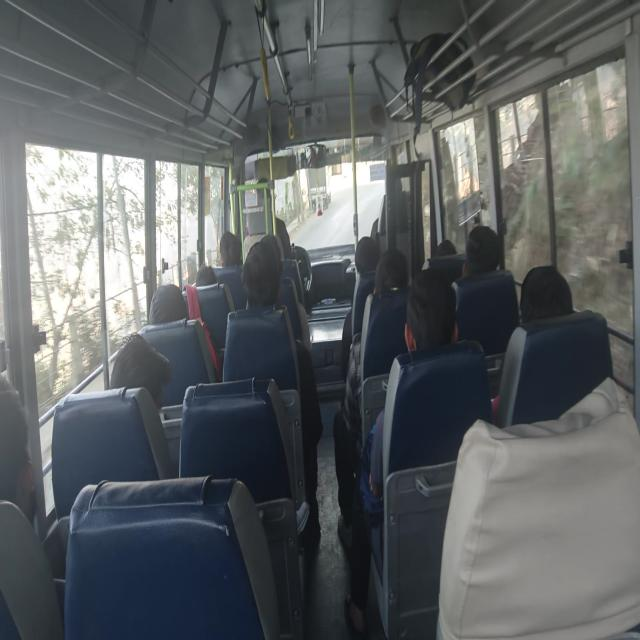person: (1, 371, 38, 522), (405, 262, 458, 364), (112, 324, 174, 409), (516, 259, 584, 334), (462, 223, 512, 283), (245, 238, 278, 310), (151, 277, 185, 330), (215, 227, 246, 276), (377, 249, 406, 294), (352, 230, 378, 276), (192, 262, 226, 293), (262, 228, 287, 270), (431, 233, 458, 266), (386, 171, 406, 203), (254, 174, 273, 206)
